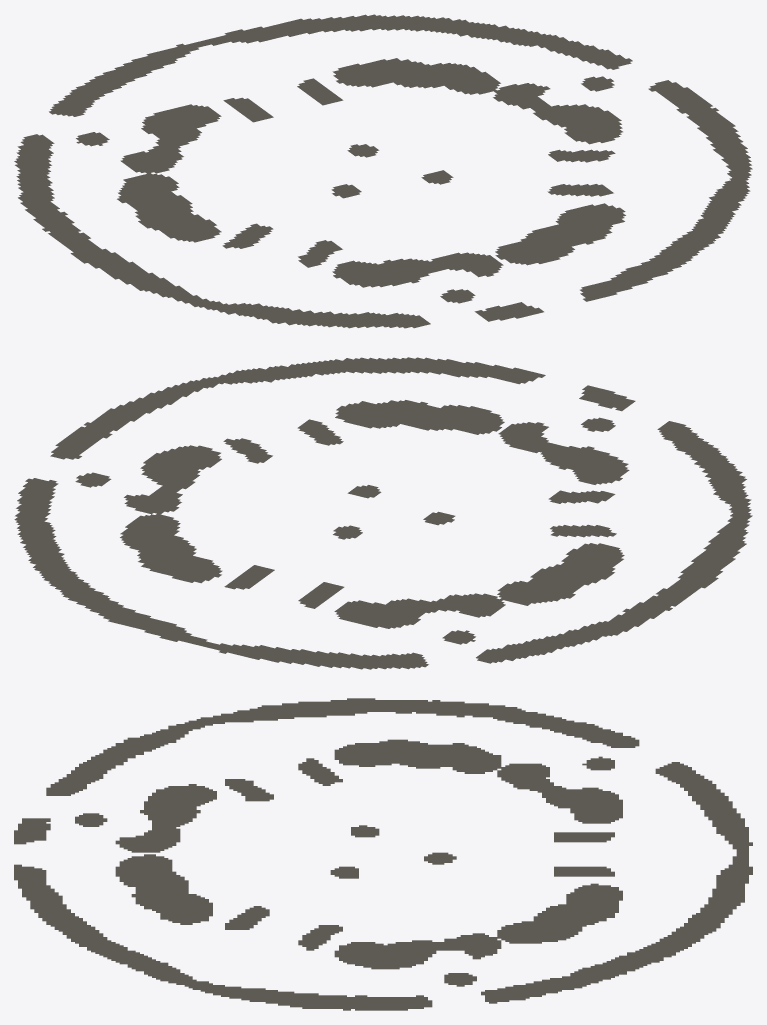
Rendered from Inv-1-NoBuildArea.fbx.
3 views of the same model, one above another, from view 1: azimuth 30°, elevation 25°; view 2: azimuth 150°, elevation 25°; view 3: azimuth 270°, elevation 25° (orthographic).
Parts seen in each view (by area): view 1: Inv-1-NoBuildArea; view 2: Inv-1-NoBuildArea; view 3: Inv-1-NoBuildArea.
Boxes of the visible parts, x1,y1,x2,y2 form: Inv-1-NoBuildArea: (14,14,752,328); Inv-1-NoBuildArea: (14,357,752,669); Inv-1-NoBuildArea: (14,698,752,1010).
Size of the model in its own units: 182 by 0 by 182.
